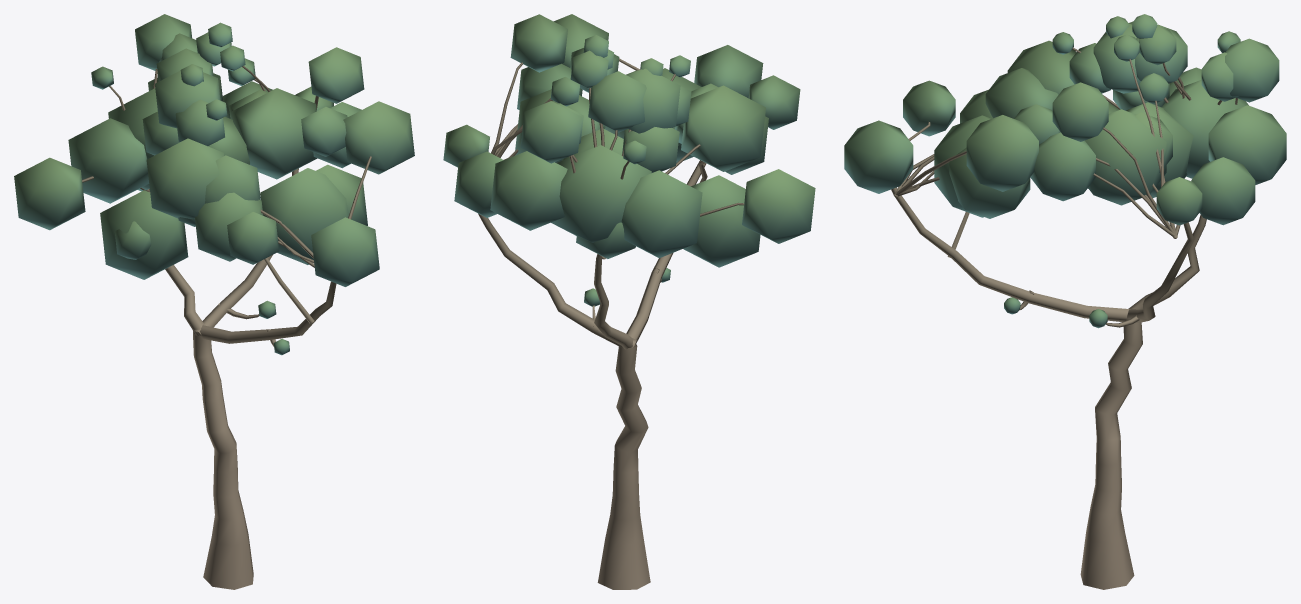
File: seed_tree_a.glb
The picture shows the model from 3 angles, left to right: view 1: azimuth 30°, elevation 25°; view 2: azimuth 150°, elevation 25°; view 3: azimuth 270°, elevation 25°; orthographic projection. The views are drawn at different scales.
Parts seen in each view (by area): view 1: seed_tree_a_LOD0; view 2: seed_tree_a_LOD0; view 3: seed_tree_a_LOD0.
Part boxes in pixels (x1=…): seed_tree_a_LOD0: x1=14, y1=14, x2=414, y2=589; seed_tree_a_LOD0: x1=443, y1=14, x2=815, y2=589; seed_tree_a_LOD0: x1=844, y1=14, x2=1286, y2=589.
Size of what is drawn, in the model's own units: 9.23 by 14.3 by 10.07.
